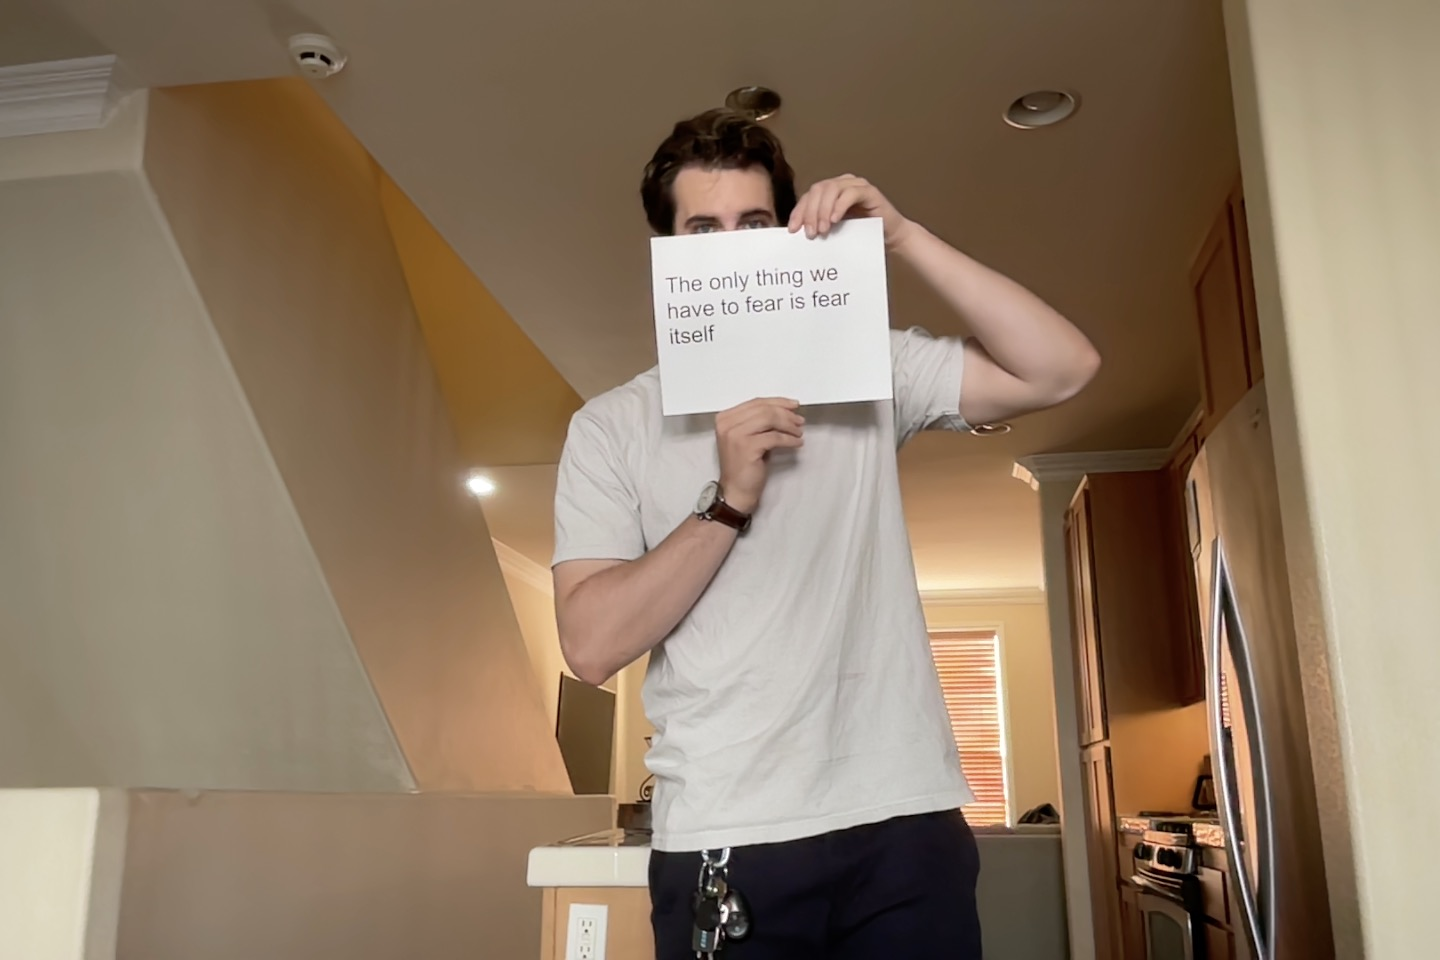phrase: (662, 264, 857, 348)
